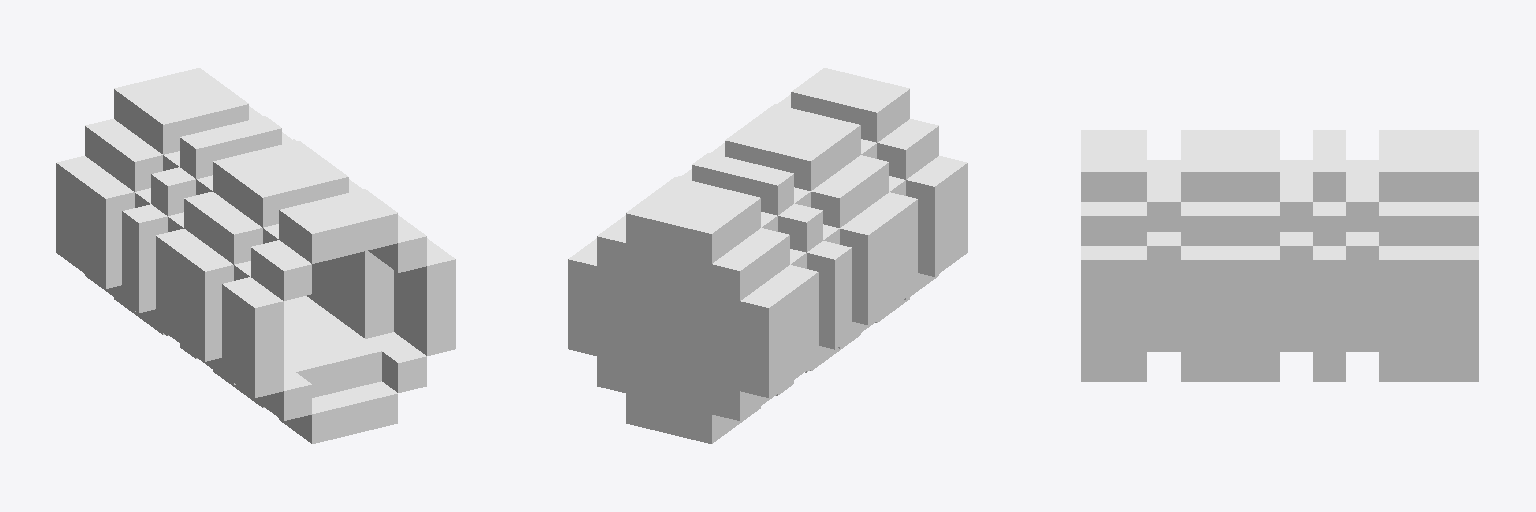
File: Extra-2-StarMarine_Canon1_R.obj
3 views of the same model, side by side, from view 1: azimuth 30°, elevation 25°; view 2: azimuth 150°, elevation 25°; view 3: azimuth 270°, elevation 25° (orthographic).
Visible parts, largest first — view 1: StarMarine_Canon1_R; view 2: StarMarine_Canon1_R; view 3: StarMarine_Canon1_R.
Boxes of the visible parts, x1=… form: StarMarine_Canon1_R: x1=56, y1=68, x2=455, y2=443; StarMarine_Canon1_R: x1=568, y1=68, x2=967, y2=443; StarMarine_Canon1_R: x1=1081, y1=130, x2=1478, y2=381.
Size of the model in its own units: 0.7 by 0.7 by 1.2.